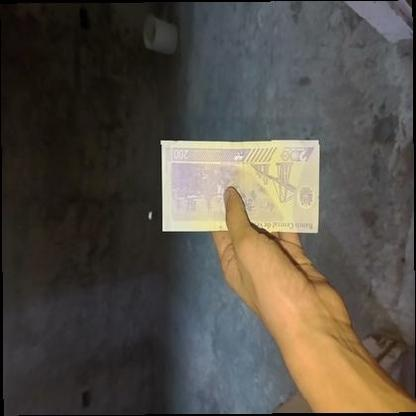two_hundred-back-vef: (159, 139, 320, 234)
